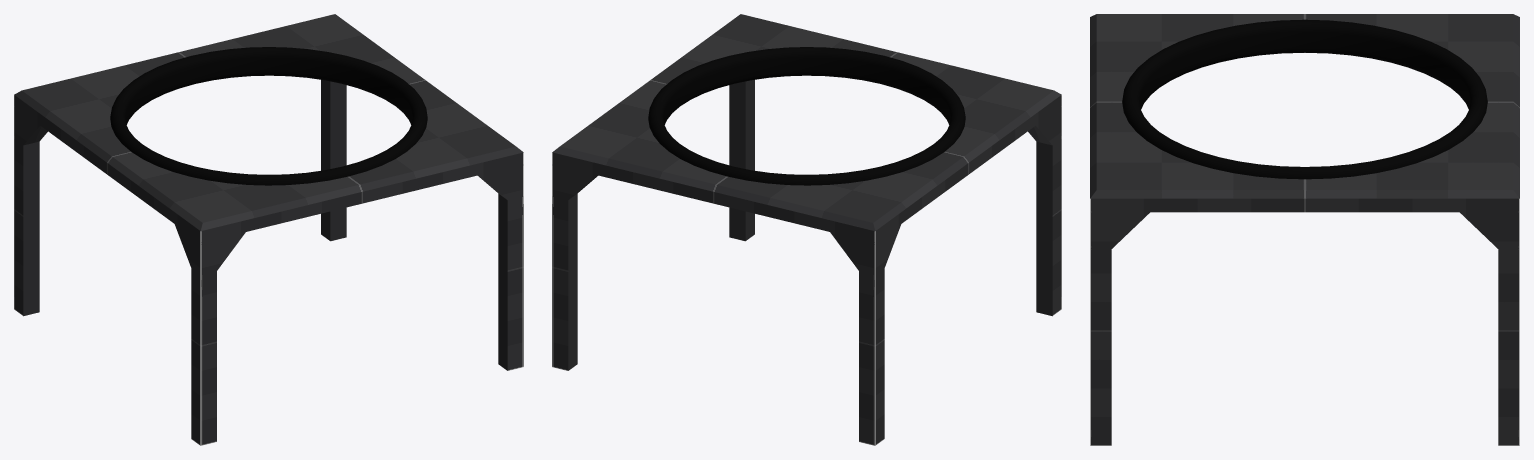
The model's file is cauldron_table.glb.
3 views of the same model, side by side, from view 1: azimuth 30°, elevation 25°; view 2: azimuth 150°, elevation 25°; view 3: azimuth 270°, elevation 25° (orthographic). The views are drawn at different scales.
Parts seen in each view (by area): view 1: Cauldron Holder; view 2: Cauldron Holder; view 3: Cauldron Holder.
Boxes of the visible parts, x1=… form: Cauldron Holder: x1=14, y1=14, x2=523, y2=445; Cauldron Holder: x1=552, y1=14, x2=1061, y2=445; Cauldron Holder: x1=1090, y1=14, x2=1519, y2=445.
Bounding box in the file's own units: 0.9142 × 0.6129 × 0.9142.
2 materials, 1 textured.
